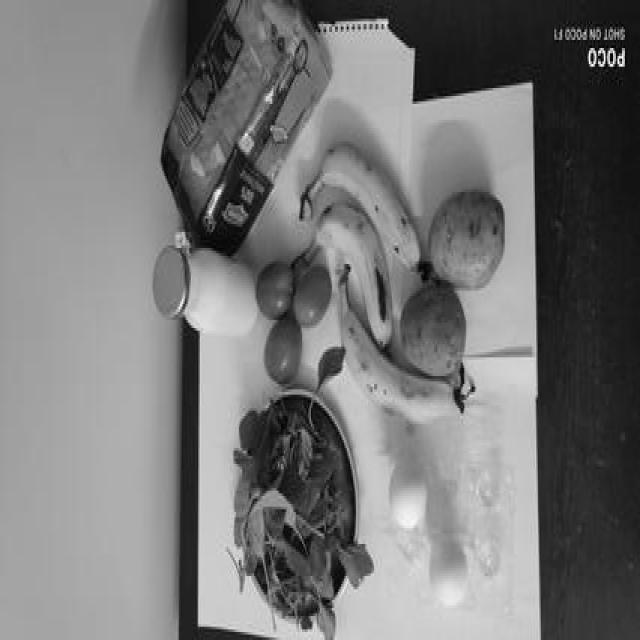Fresh_Spinach: (228, 409, 359, 615)
Fresh_tomato: (250, 256, 328, 386)
